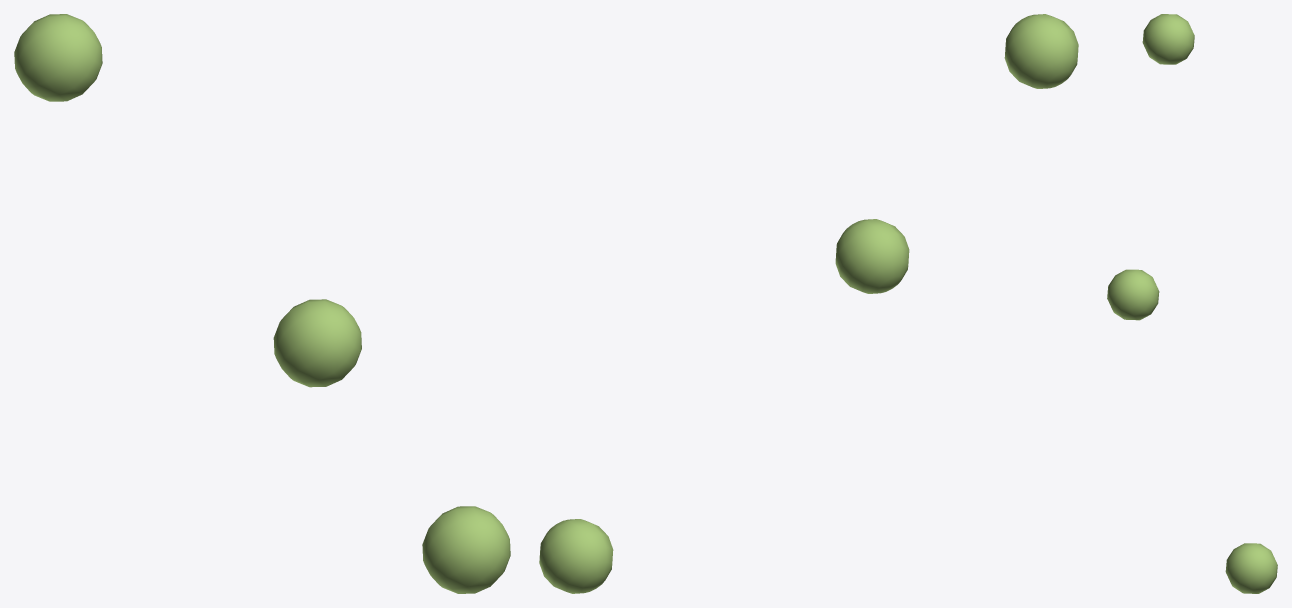
Rendered from appendicular-nodes.glb.
The picture shows the model from 3 angles, left to right: view 1: azimuth 30°, elevation 25°; view 2: azimuth 150°, elevation 25°; view 3: azimuth 270°, elevation 25°; orthographic projection. The views are drawn at different scales.
Parts seen in each view (by area): view 1: Appendicular nodes; view 2: Appendicular nodes; view 3: Appendicular nodes.
Boxes of the visible parts, x1=… form: Appendicular nodes: x1=14, y1=14, x2=510, y2=593; Appendicular nodes: x1=539, y1=14, x2=1078, y2=593; Appendicular nodes: x1=1107, y1=14, x2=1277, y2=593.
Bounding box in the file's own units: 0.0186 × 0.0237 × 0.00838.
